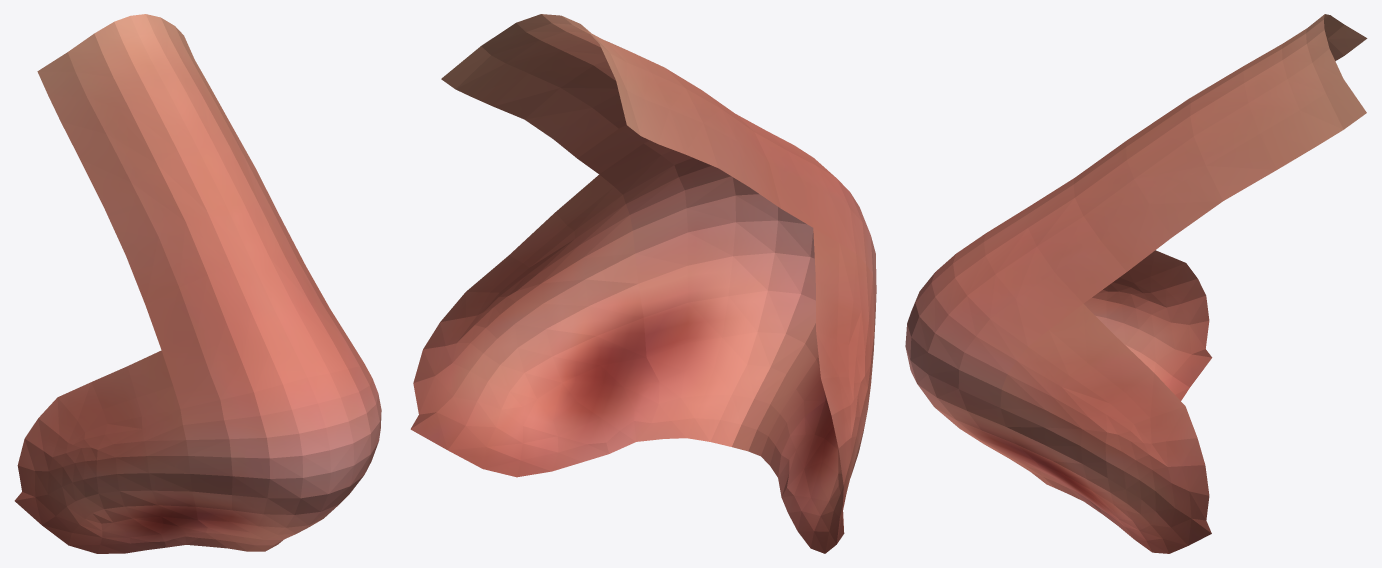
The model's file is myREye.obj.
The picture shows the model from 3 angles, left to right: view 1: azimuth 30°, elevation 25°; view 2: azimuth 150°, elevation 25°; view 3: azimuth 270°, elevation 25°; orthographic projection. The views are drawn at different scales.
Visible parts, largest first — view 1: euro-fem-nose-bri.017_euro-fem-nose-bri.003; view 2: euro-fem-nose-bri.017_euro-fem-nose-bri.003; view 3: euro-fem-nose-bri.017_euro-fem-nose-bri.003.
Boxes of the visible parts, x1,y1,x2,y2 form: euro-fem-nose-bri.017_euro-fem-nose-bri.003: (14, 14, 381, 553); euro-fem-nose-bri.017_euro-fem-nose-bri.003: (410, 14, 876, 553); euro-fem-nose-bri.017_euro-fem-nose-bri.003: (905, 14, 1367, 553).
Size of the model in its own units: 0.2901 by 0.3665 by 0.3243.
Materials: 1 (1 with a texture image).
